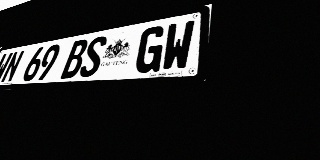6: (21, 46, 48, 82)
9: (34, 43, 62, 81)
B: (60, 38, 90, 79)
G: (133, 25, 167, 74)
N: (0, 50, 25, 83)
S: (78, 35, 108, 78)
W: (160, 20, 195, 72), (0, 52, 14, 84)
